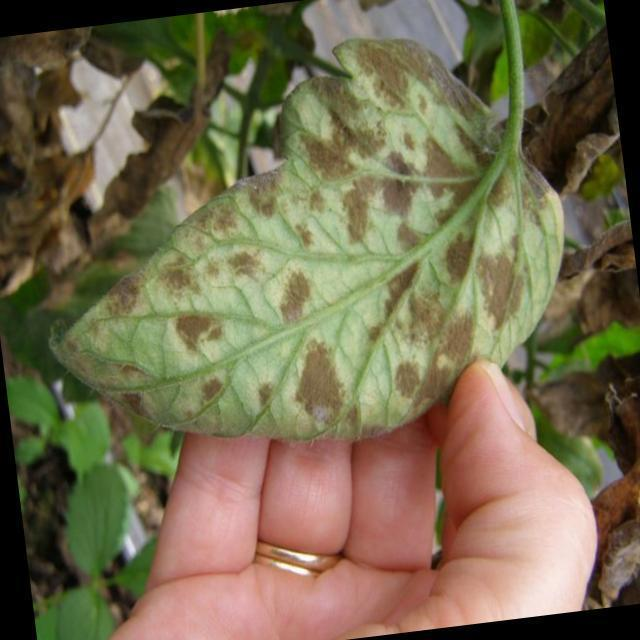Mosaic Virus: (35, 29, 575, 464)
